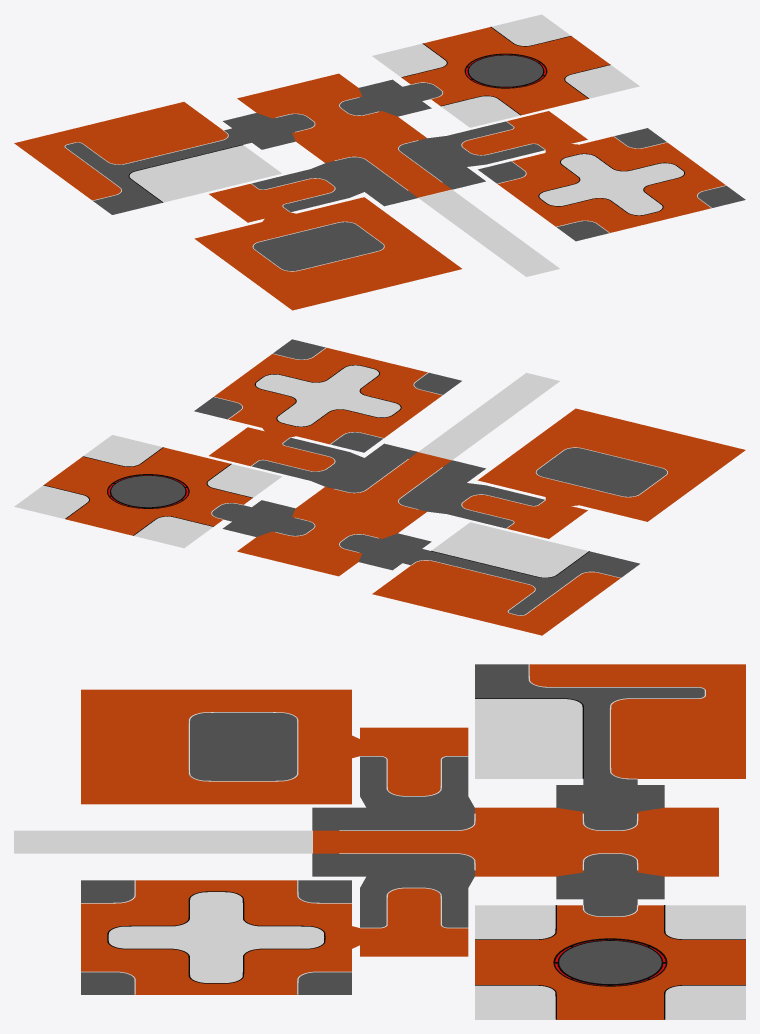
File: level_02_floor_a.fbx
3 views of the same model, one above another, from view 1: azimuth 30°, elevation 25°; view 2: azimuth 150°, elevation 25°; view 3: azimuth 270°, elevation 25° (orthographic). The views are drawn at different scales.
Parts seen in each view (by area): view 1: Level02_floor; view 2: Level02_floor; view 3: Level02_floor.
Boxes of the visible parts, left/top/right/bottom form: Level02_floor: left=14, top=14, right=745, bottom=310; Level02_floor: left=14, top=339, right=745, bottom=635; Level02_floor: left=14, top=664, right=745, bottom=1019.
Bounding box in the file's own units: 10014 × 11.49 × 8715.
